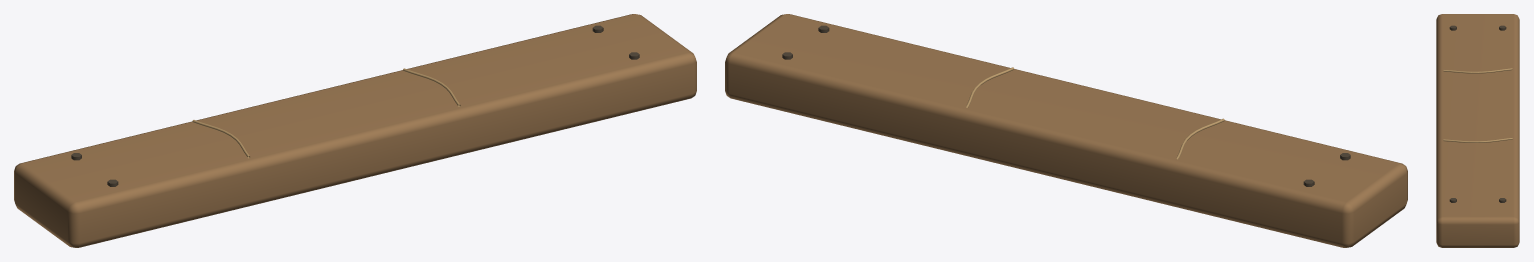
Rendered from bridge-plank.glb.
3 renders of one model, left to right at view 1: azimuth 30°, elevation 25°; view 2: azimuth 150°, elevation 25°; view 3: azimuth 270°, elevation 25°, orthographic. The views are drawn at different scales.
Visible parts, largest first — view 1: bridge-plank_wood, bridge-plank_wood_light; view 2: bridge-plank_wood, bridge-plank_wood_light; view 3: bridge-plank_wood, bridge-plank_wood_light, bridge-plank_wood_dark.
Part boxes in pixels (x1=…): bridge-plank_wood: x1=14, y1=14, x2=696, y2=247; bridge-plank_wood_light: x1=192, y1=68, x2=460, y2=158; bridge-plank_wood: x1=725, y1=14, x2=1407, y2=247; bridge-plank_wood_light: x1=966, y1=67, x2=1224, y2=159; bridge-plank_wood: x1=1436, y1=14, x2=1519, y2=247; bridge-plank_wood_light: x1=1443, y1=68, x2=1512, y2=142; bridge-plank_wood_dark: x1=1449, y1=25, x2=1506, y2=202.
Size of the model in its own units: 2 by 0.1515 by 0.34.
